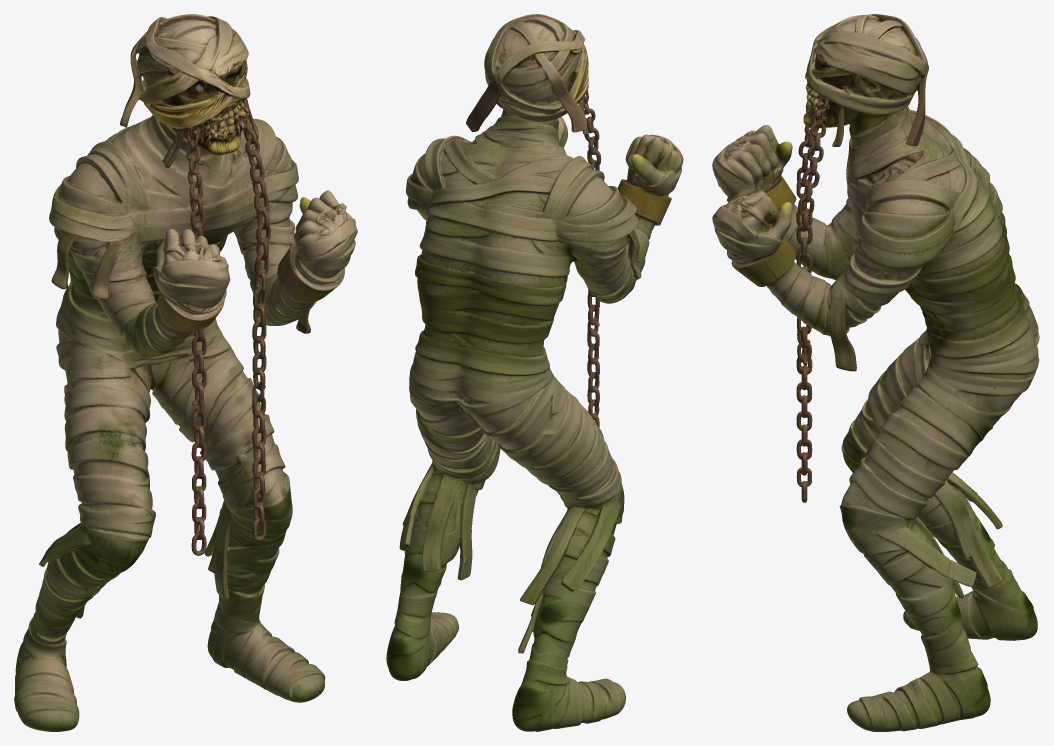
The model's file is eddie.glb.
The picture shows the model from 3 angles, left to right: view 1: azimuth 30°, elevation 25°; view 2: azimuth 150°, elevation 25°; view 3: azimuth 270°, elevation 25°; orthographic projection. The views are drawn at different scales.
Visible parts, largest first — view 1: mesh_0; view 2: mesh_0; view 3: mesh_0.
Part boxes in pixels (x1,y1,x2,y2): mesh_0: (14, 14, 357, 731); mesh_0: (386, 14, 683, 731); mesh_0: (712, 14, 1039, 731).
Size of the model in its own units: 0.7487 by 1.9 by 0.8578.
1 material, 1 textured.
